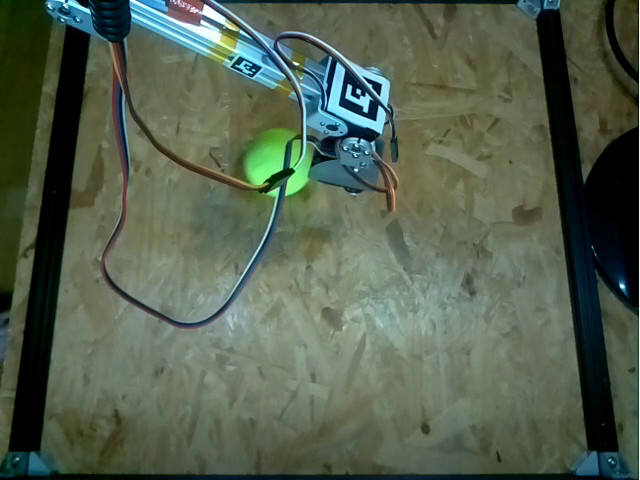tennis_ball: (244, 128, 314, 196)
